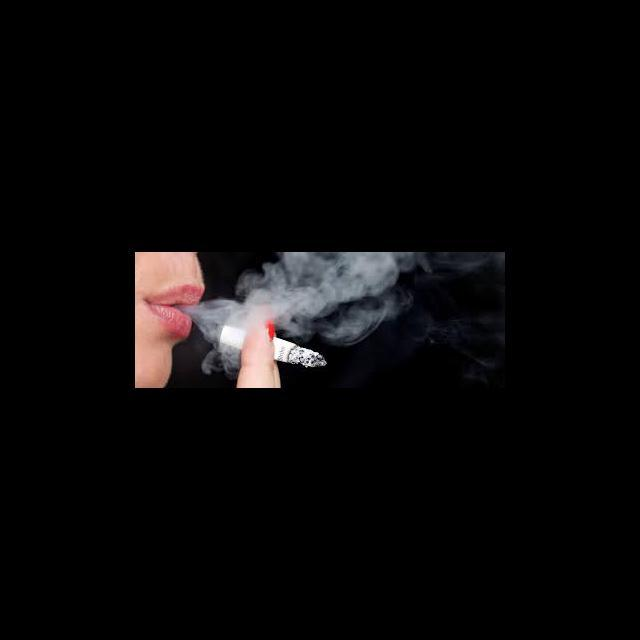Smoke: (291, 252, 388, 328), (390, 252, 504, 274), (266, 264, 289, 294), (197, 306, 220, 334), (221, 298, 244, 322)
